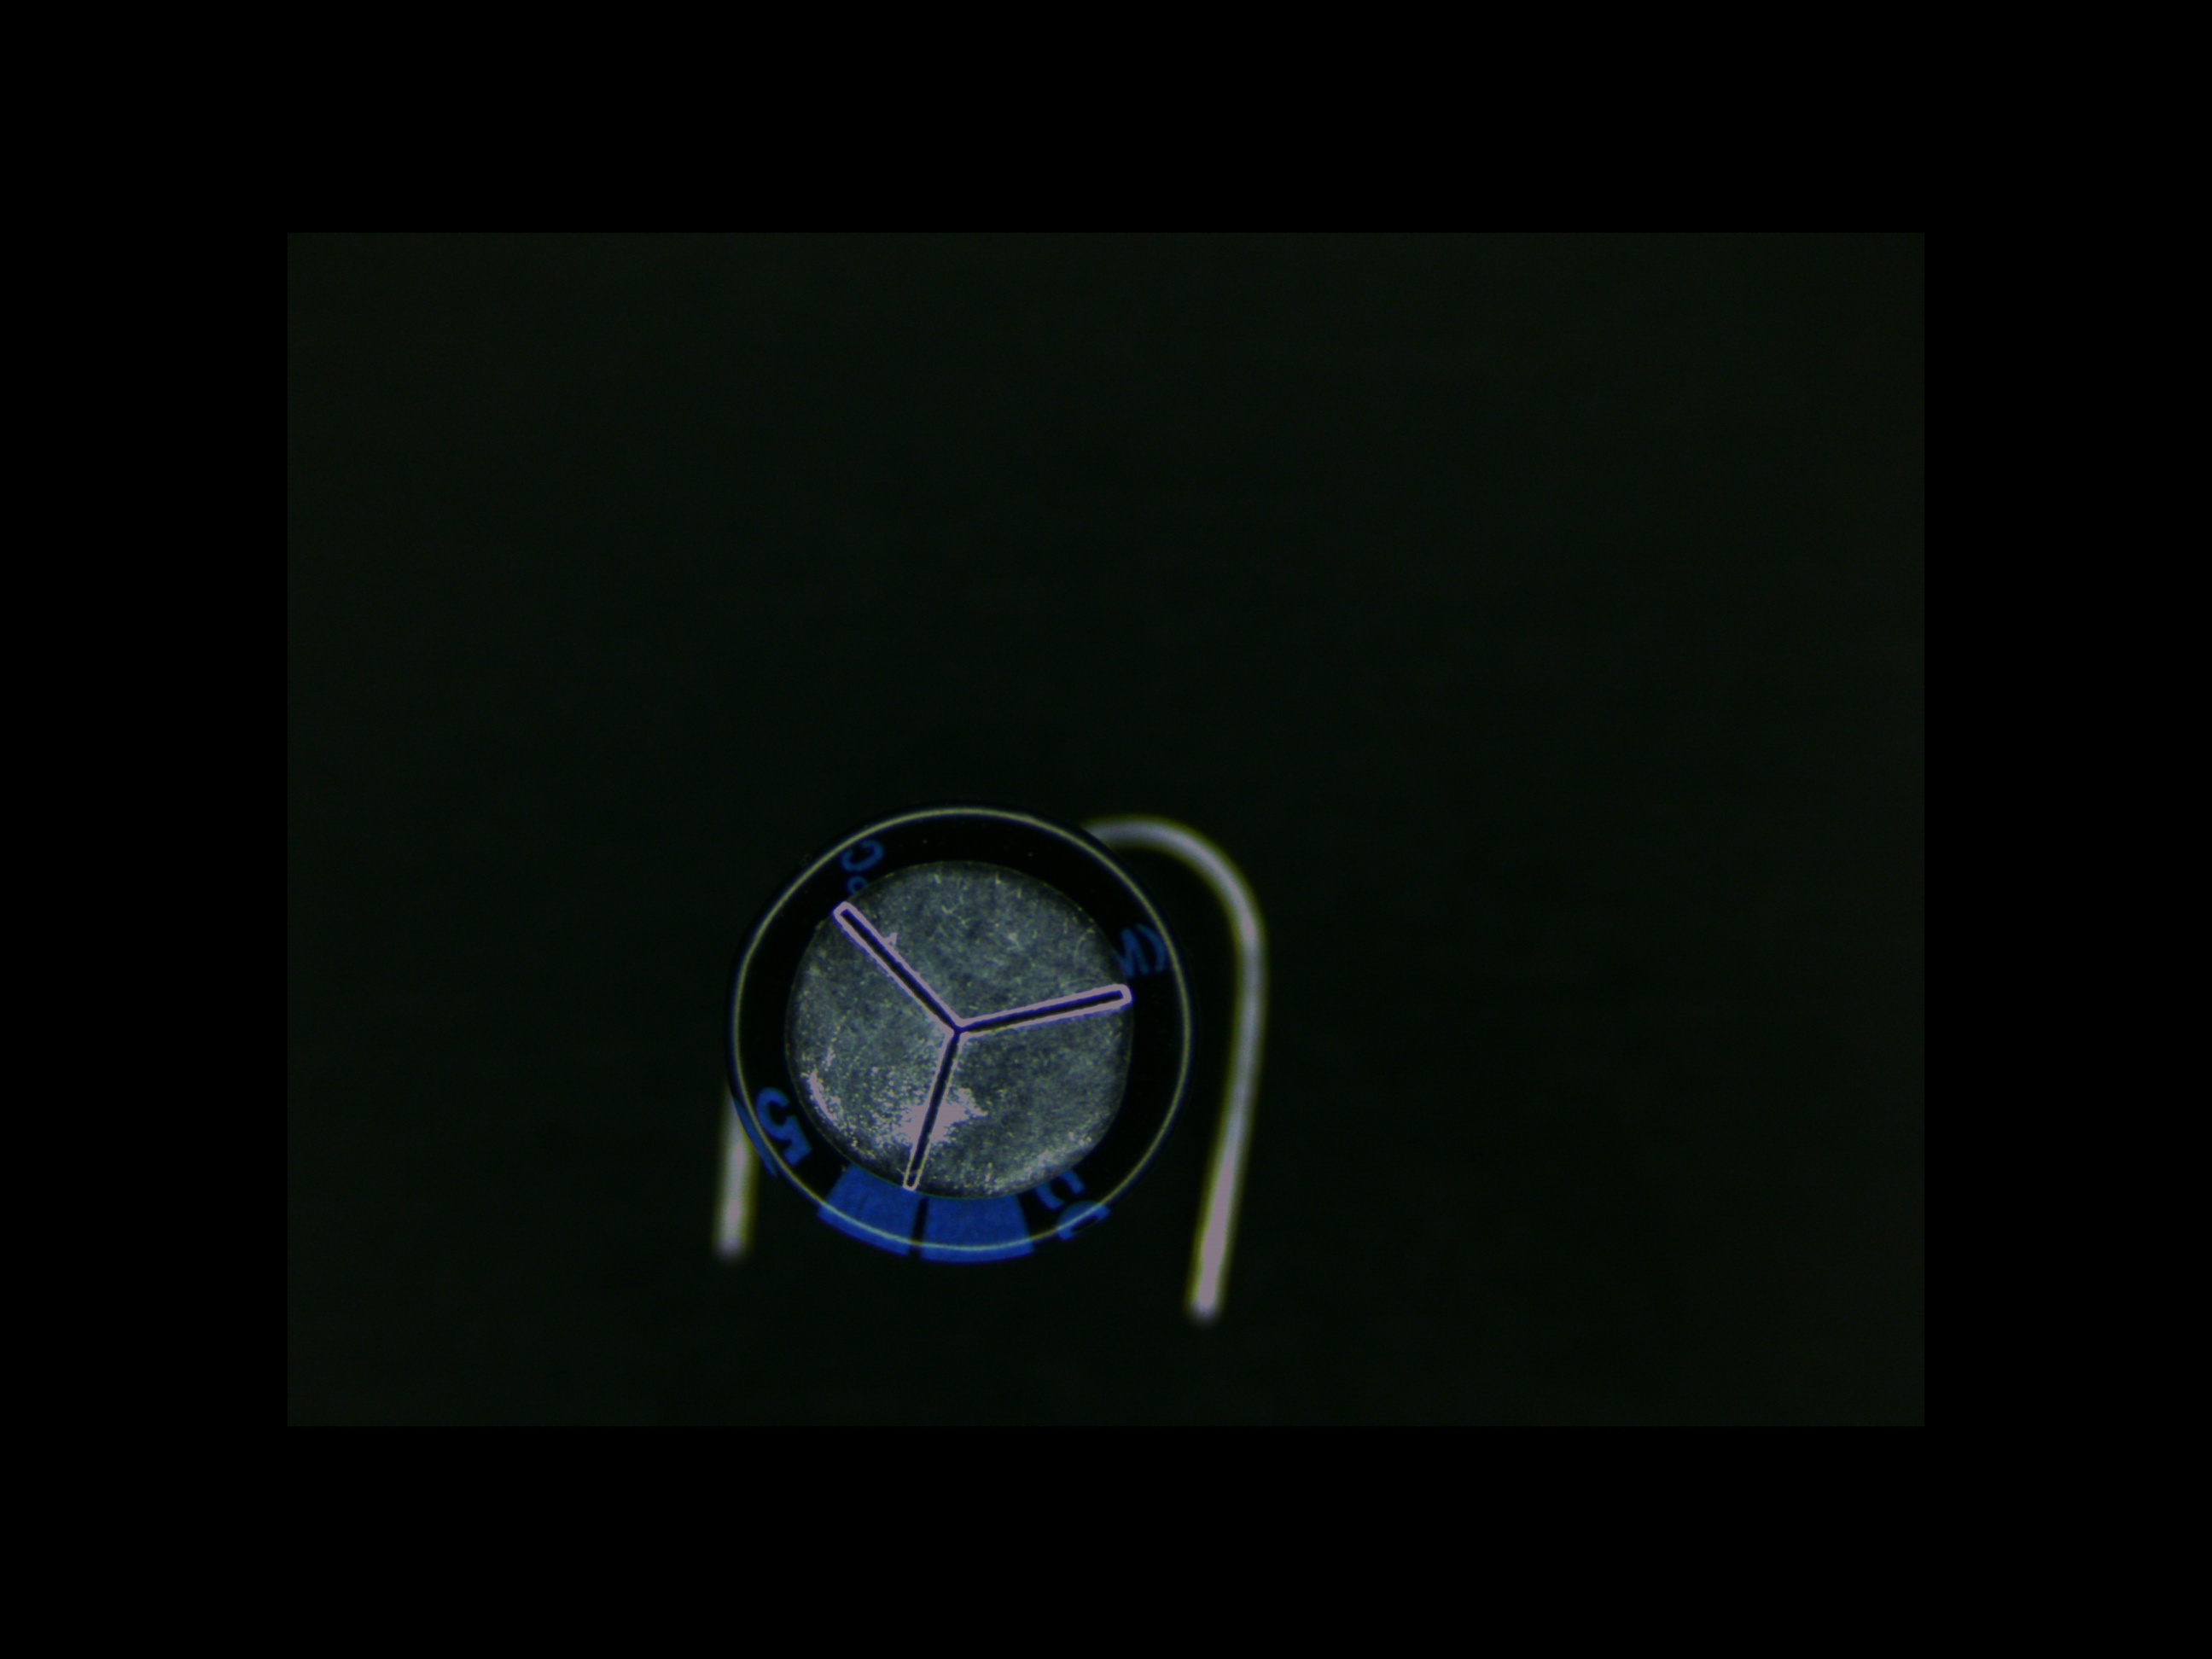c2: (725, 803, 1184, 1267)
